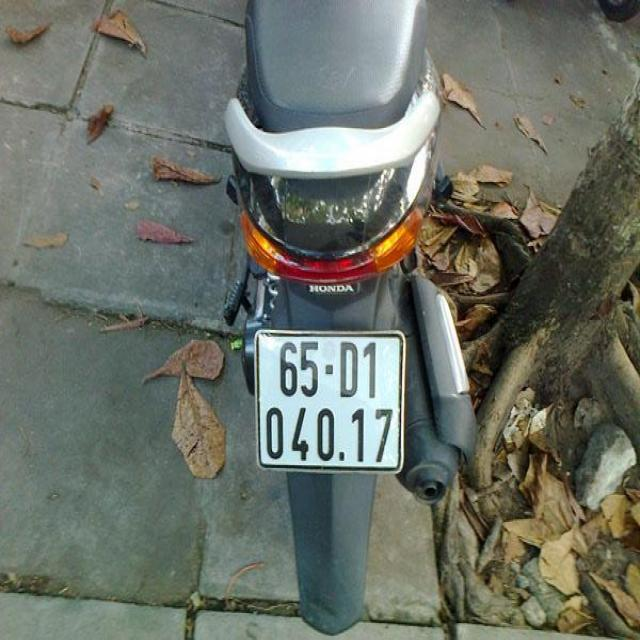License-Plates: (257, 330, 403, 471)
